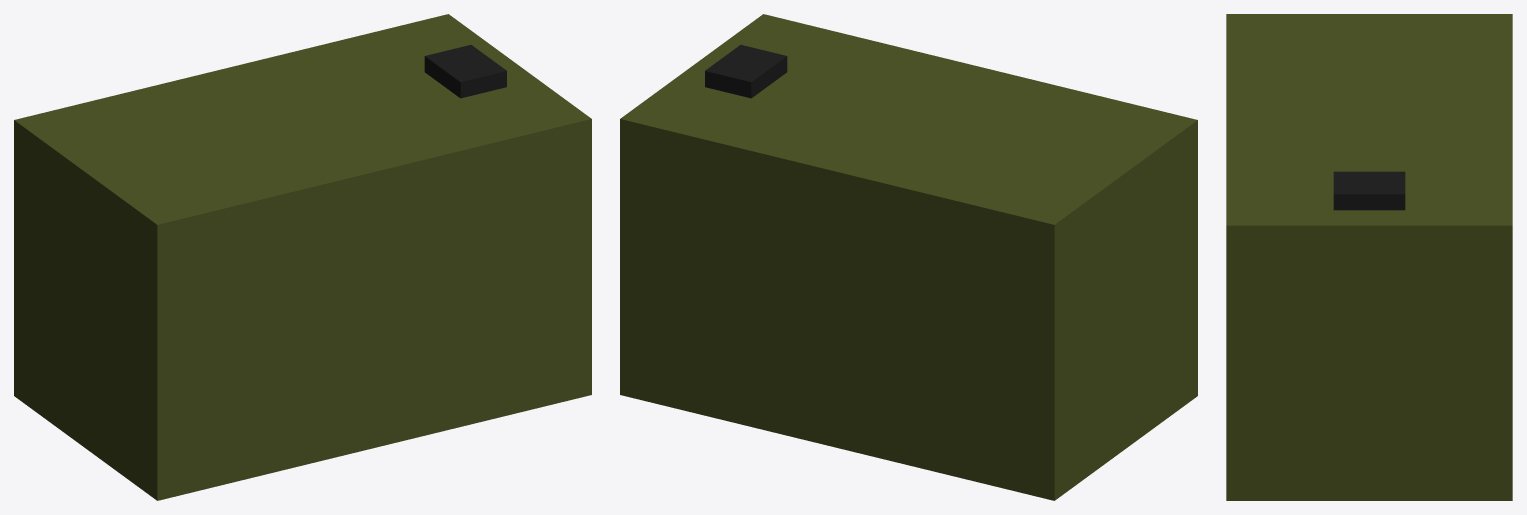
Rendered from military_cargo_truck_fuel_tank.glb.
The picture shows the model from 3 angles, left to right: view 1: azimuth 30°, elevation 25°; view 2: azimuth 150°, elevation 25°; view 3: azimuth 270°, elevation 25°; orthographic projection.
Visible parts, largest first — view 1: body:compound; view 2: body:compound; view 3: body:compound.
Boxes of the visible parts, x1=… form: body:compound: x1=14, y1=14, x2=591, y2=500; body:compound: x1=620, y1=14, x2=1197, y2=500; body:compound: x1=1226, y1=14, x2=1512, y2=500.
Size of the model in its own units: 0.875 by 0.5625 by 0.5.
